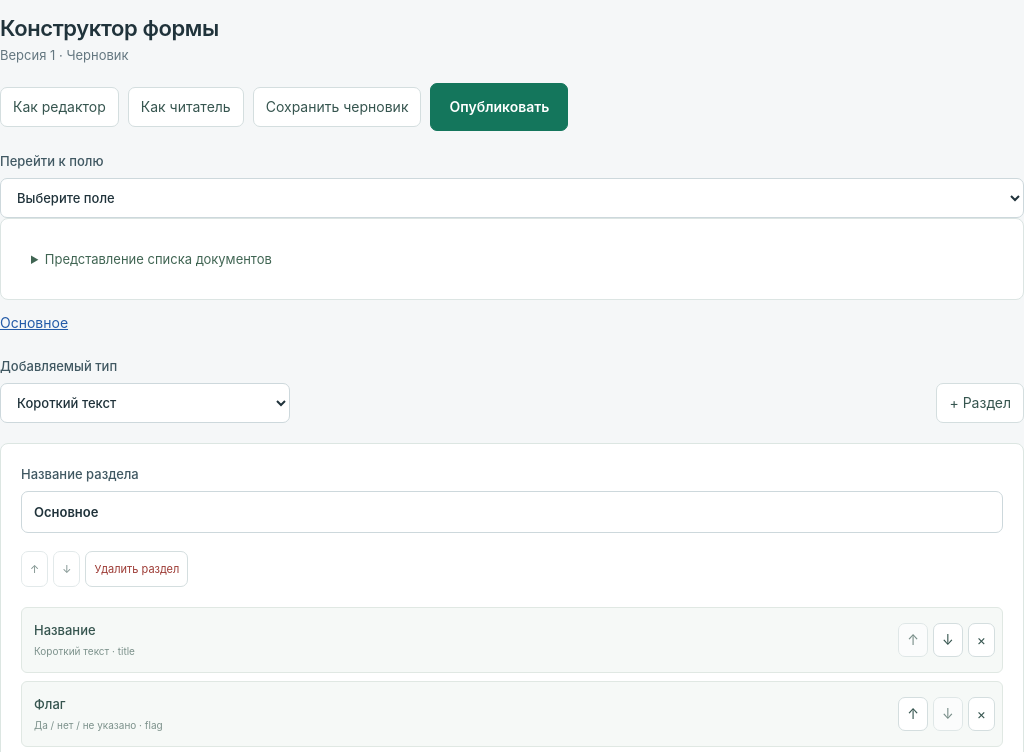
shows the actual comparison value when enabling a condition
Expected: the heading "Конструктор формы" is shown, [0, 11, 219, 45]
Click the button "Название Короткий текст · title" at x=65, y=630, box [29, 615, 893, 665]
(page scrolled)
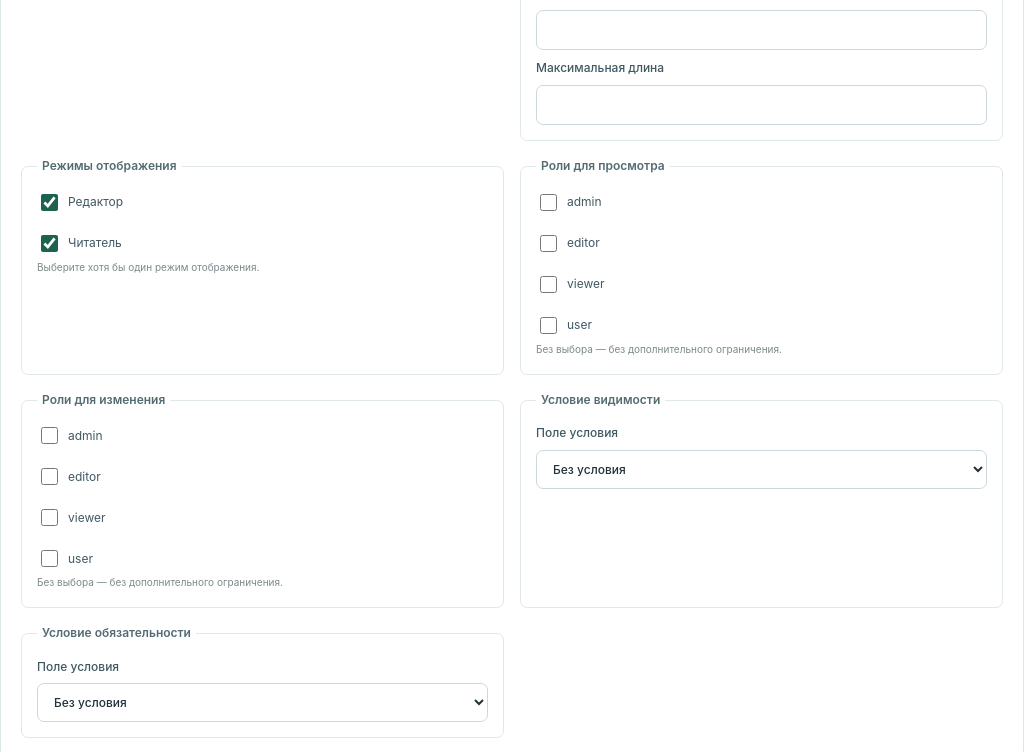
Select "Флаг (flag)" in the dropdown labelled "Поле условия" below "Условие видимости" at x=762, y=469, box [536, 450, 987, 489]
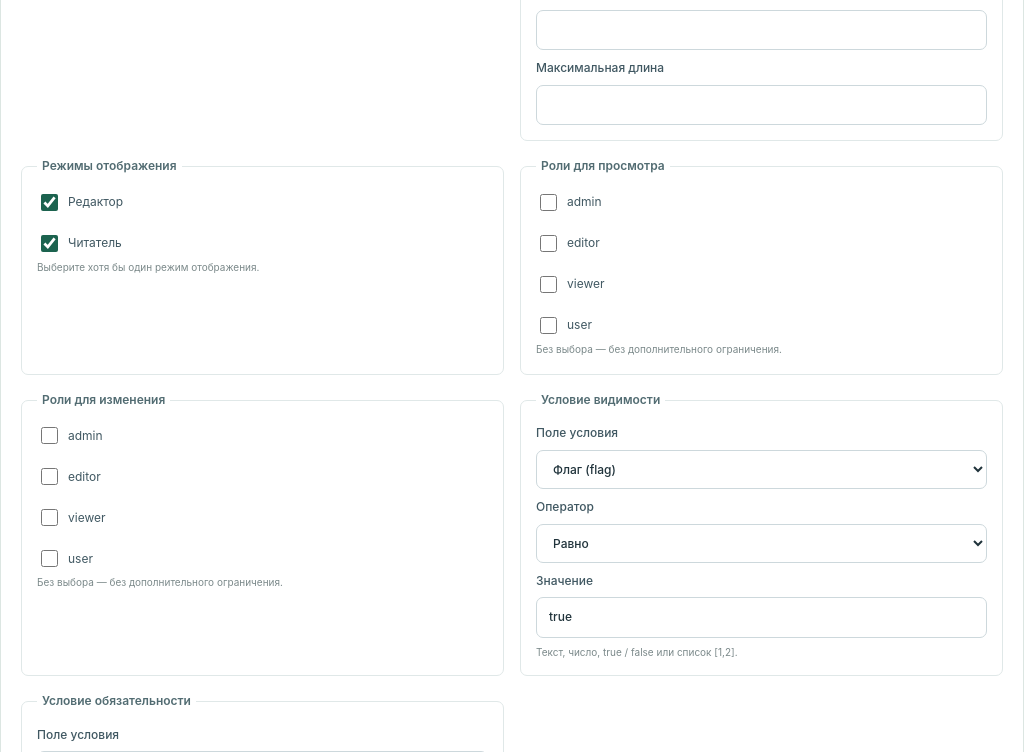
Now the field labelled "Значение Текст, число, true / false или список [1,2]." holds "true", box [536, 597, 987, 638]
